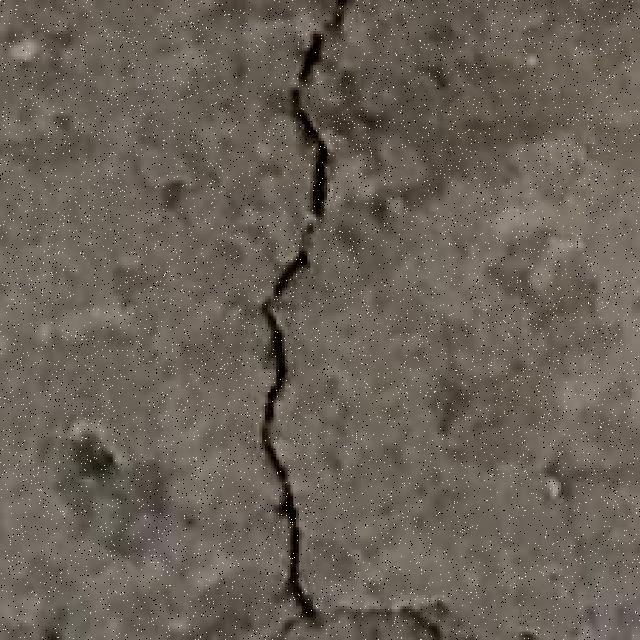crack: (257, 5, 344, 620)
